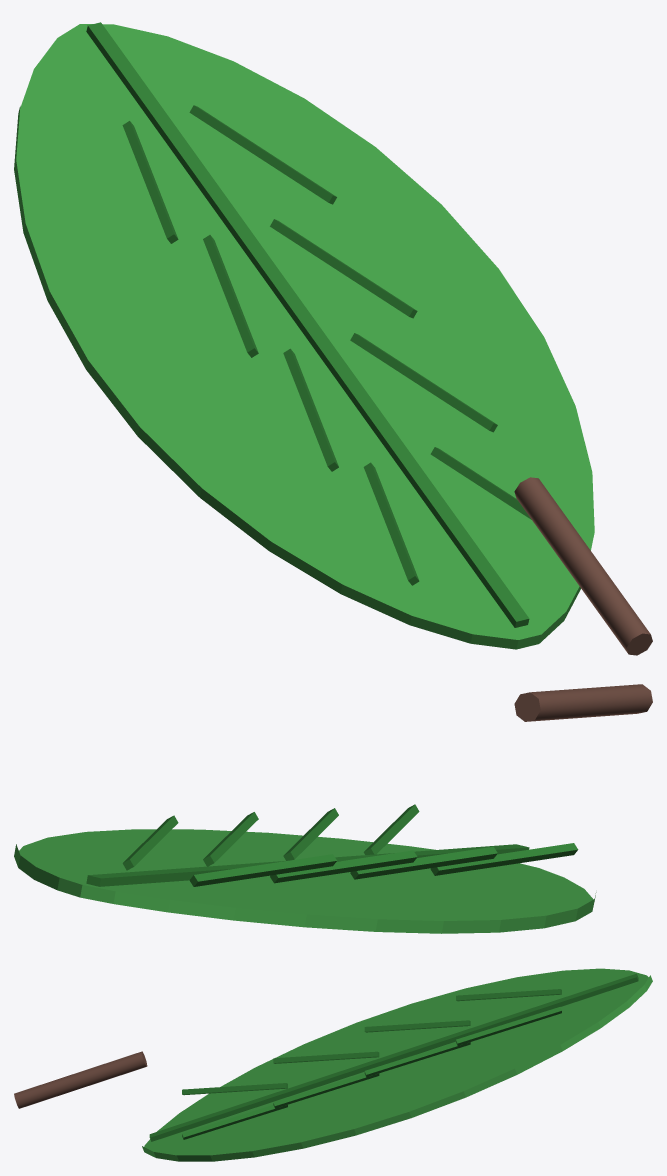
The model's file is leaf.glb.
3 views of the same model, one above another, from view 1: azimuth 30°, elevation 25°; view 2: azimuth 150°, elevation 25°; view 3: azimuth 270°, elevation 25° (orthographic). The views are drawn at different scales.
Visible parts, largest first — view 1: leaf; view 2: leaf; view 3: leaf.
Boxes of the visible parts, left/top/right/bottom form: leaf: left=14, top=22, right=652, bottom=655; leaf: left=14, top=684, right=652, bottom=933; leaf: left=14, top=968, right=652, bottom=1161.
Size of the model in its own units: 1.1 by 0.7784 by 2.59.
